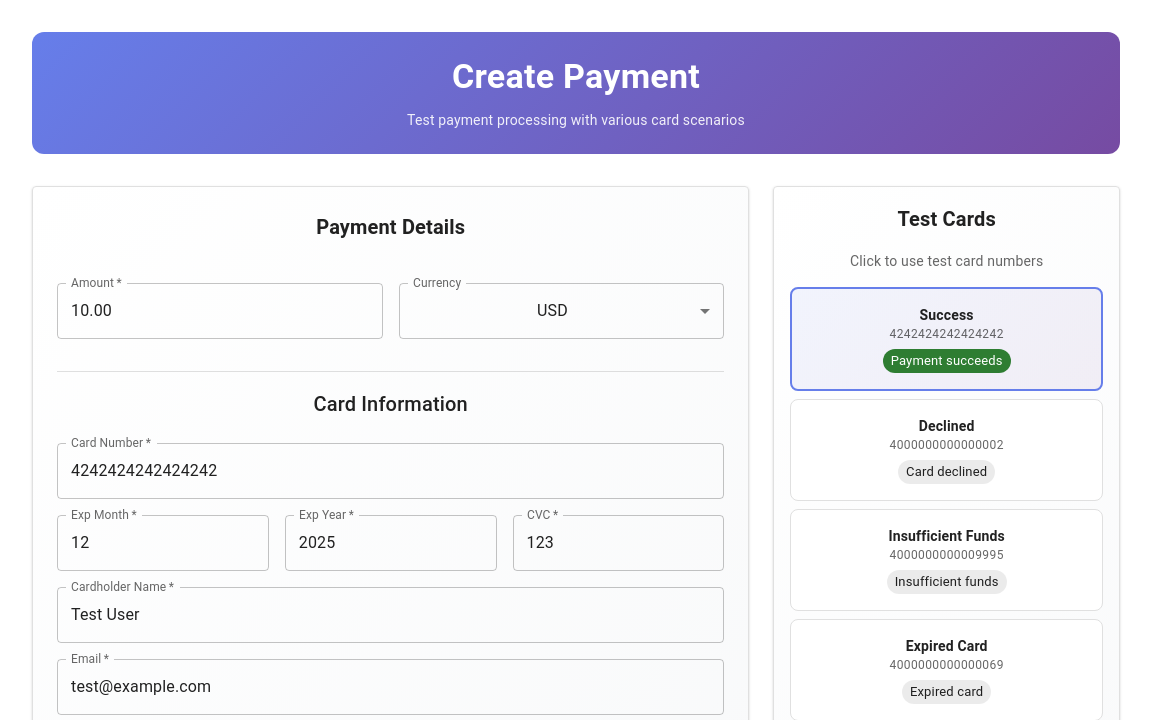
Payments › populates card number when clicking a test card
This screenshot has width=1152, height=720.
Click the text "Declined" at (947, 426), box [919,418,975,434]
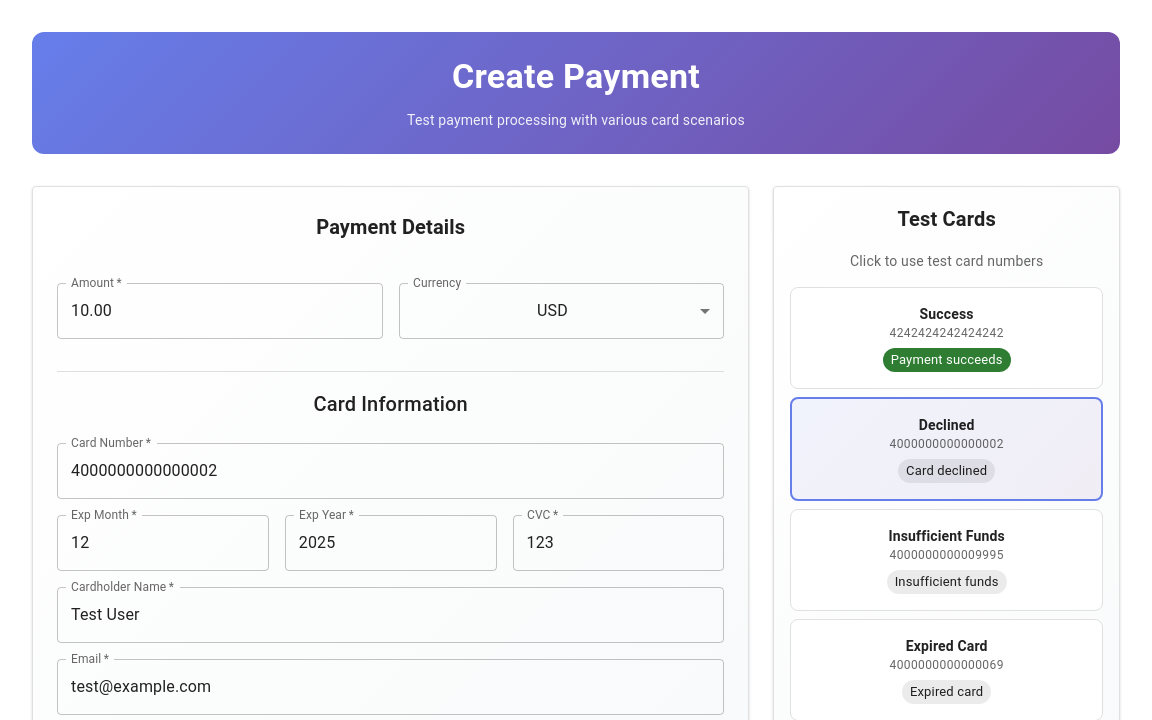
Now the field labelled "Card Number *" holds "4000000000000002", box [57,443,724,499]
